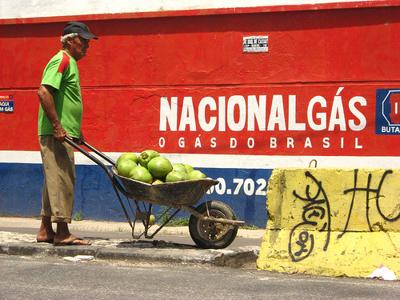person: (36, 20, 93, 247)
